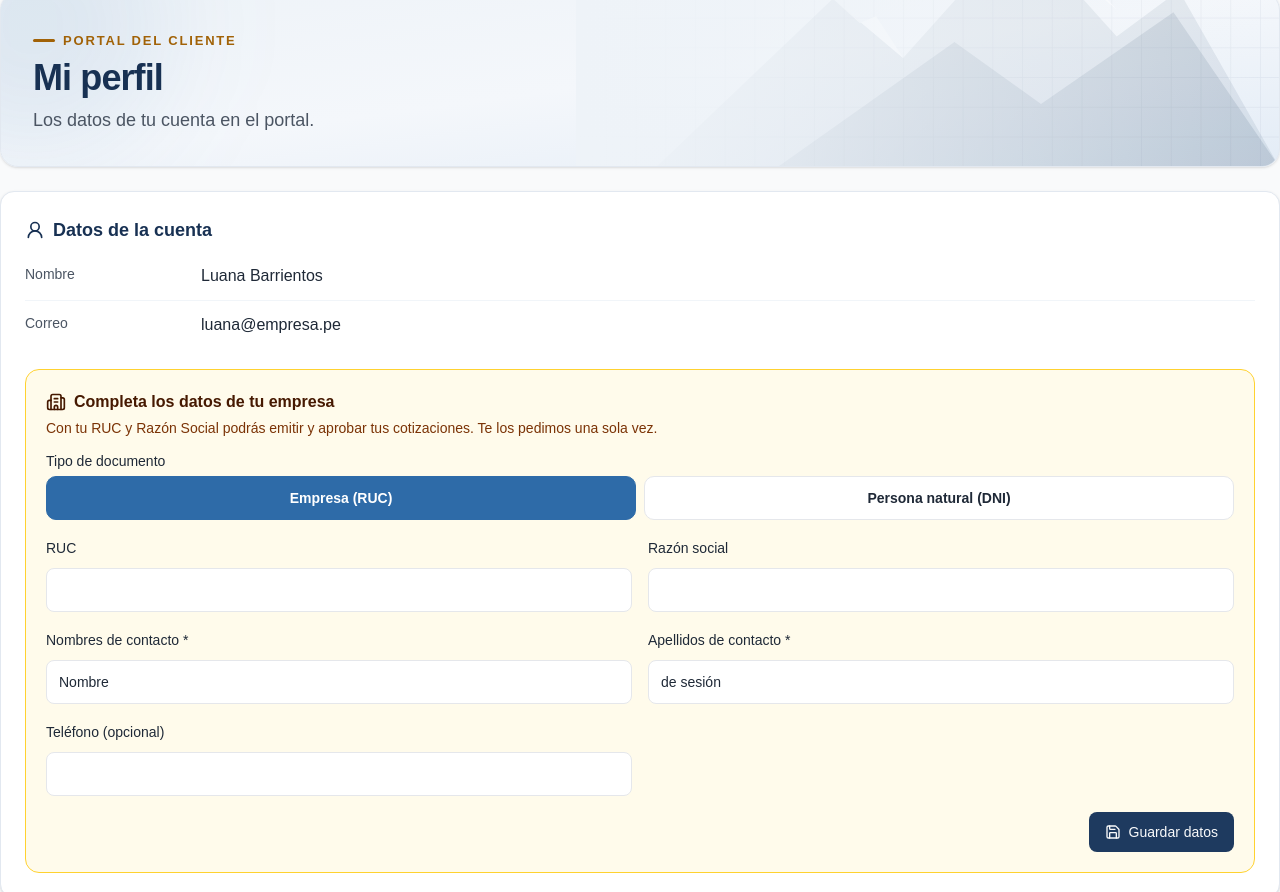
Test: PerfilClientePage (/portal/perfil) › cuenta sin datos de empresa › si falla el guardado, muestra el error y deja corregir
Expected: the element "Completa los datos de tu empresa" is shown, [25, 369, 1255, 873]
Type "20123456789" into the field labelled "RUC" at (339, 590), box [46, 568, 632, 612]
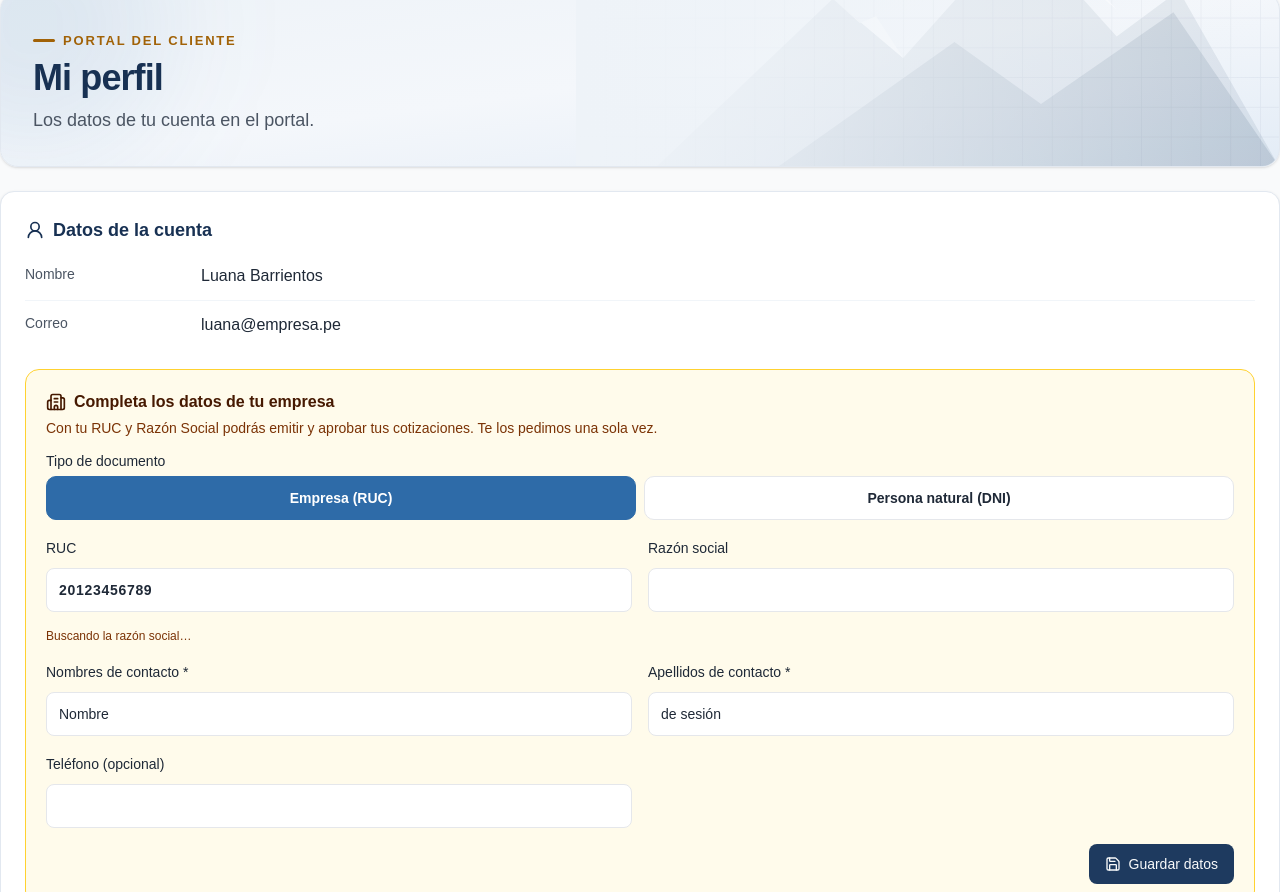
Type "Minera Sol S.A.C." into the field labelled "Razón social" at (941, 590), box [648, 568, 1234, 612]
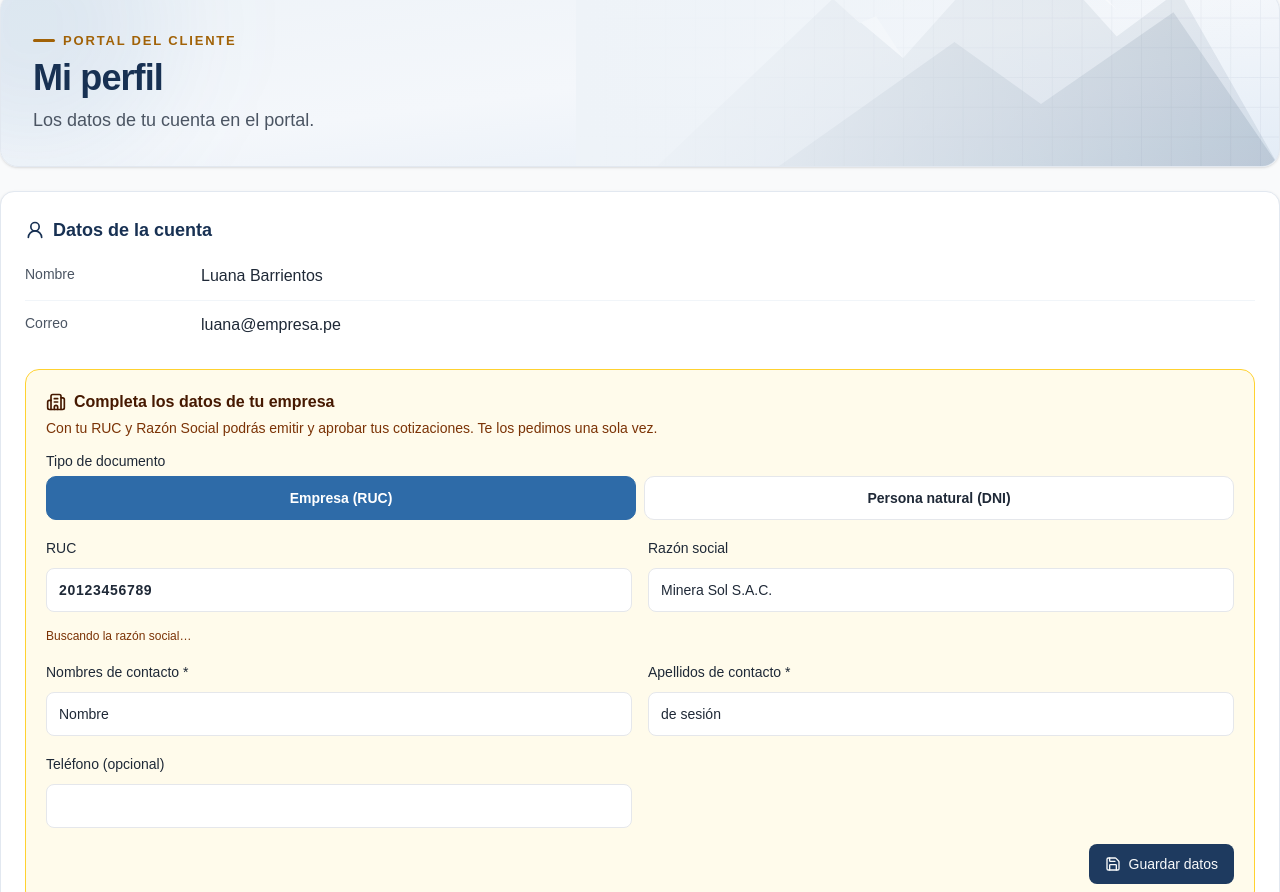
Replace the text in the field labelled "Nombres de contacto *" with "Gina" at (339, 714), box [46, 692, 632, 736]
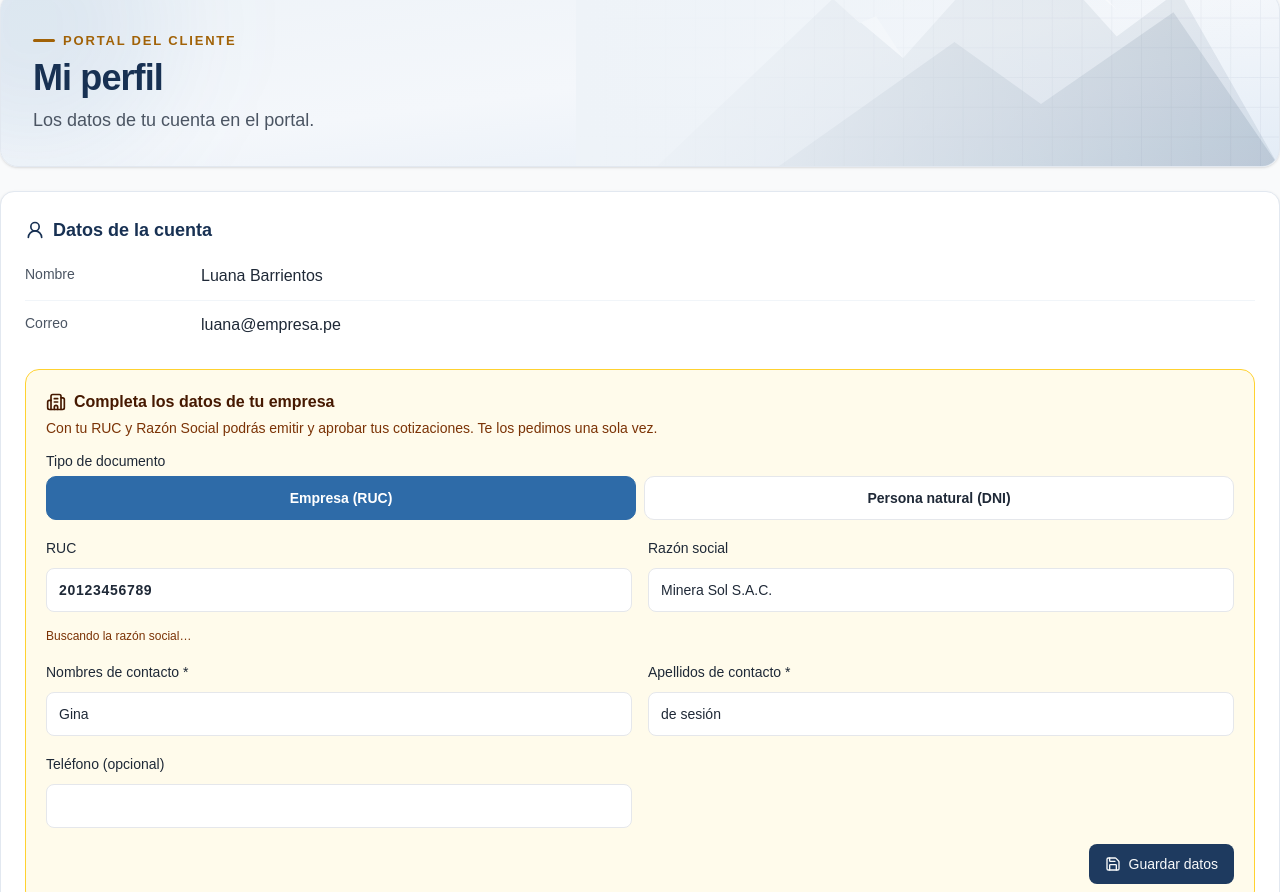
Replace the text in the field labelled "Apellidos de contacto *" with "Paz" at (941, 714), box [648, 692, 1234, 736]
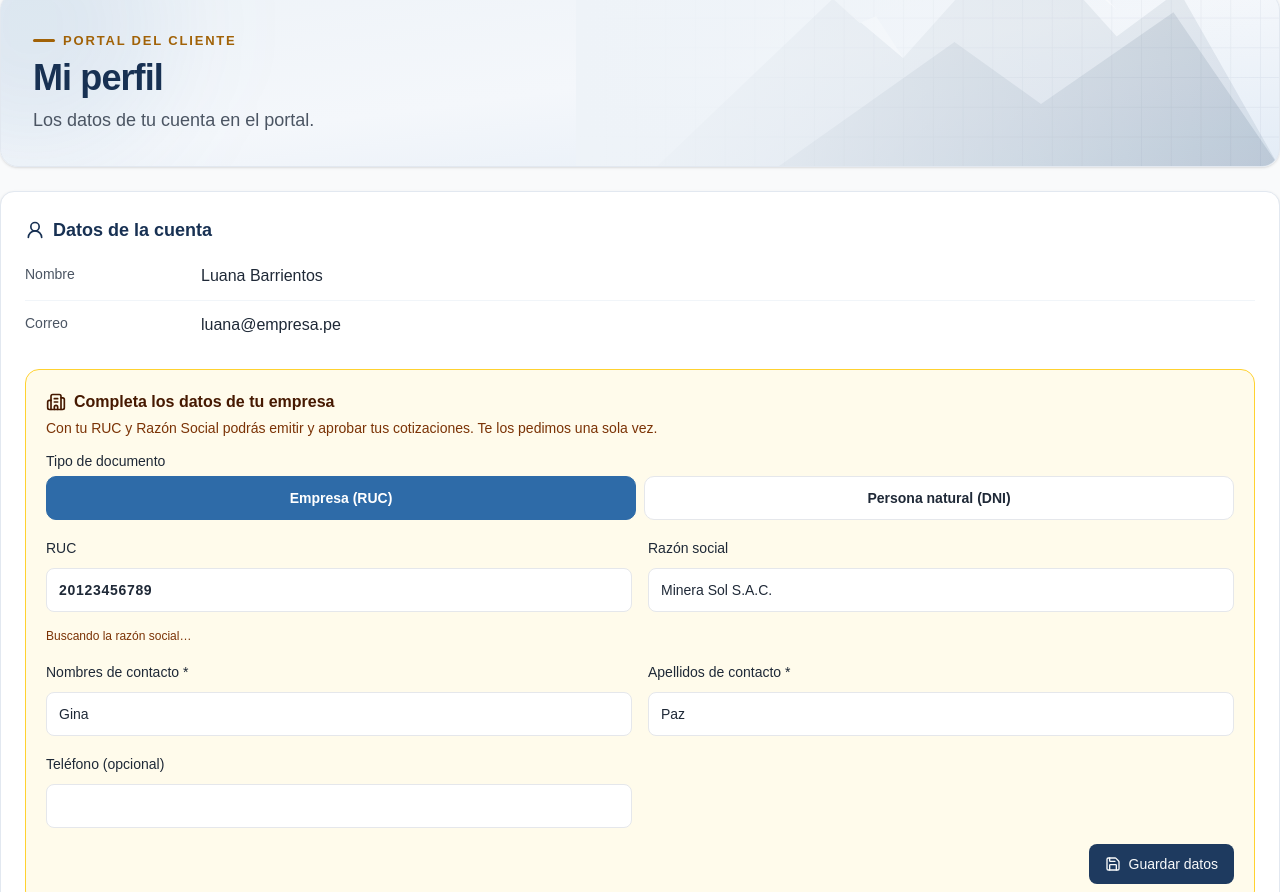
Click the button "Guardar datos" at (1161, 864), box [1088, 844, 1234, 884]
(page scrolled)
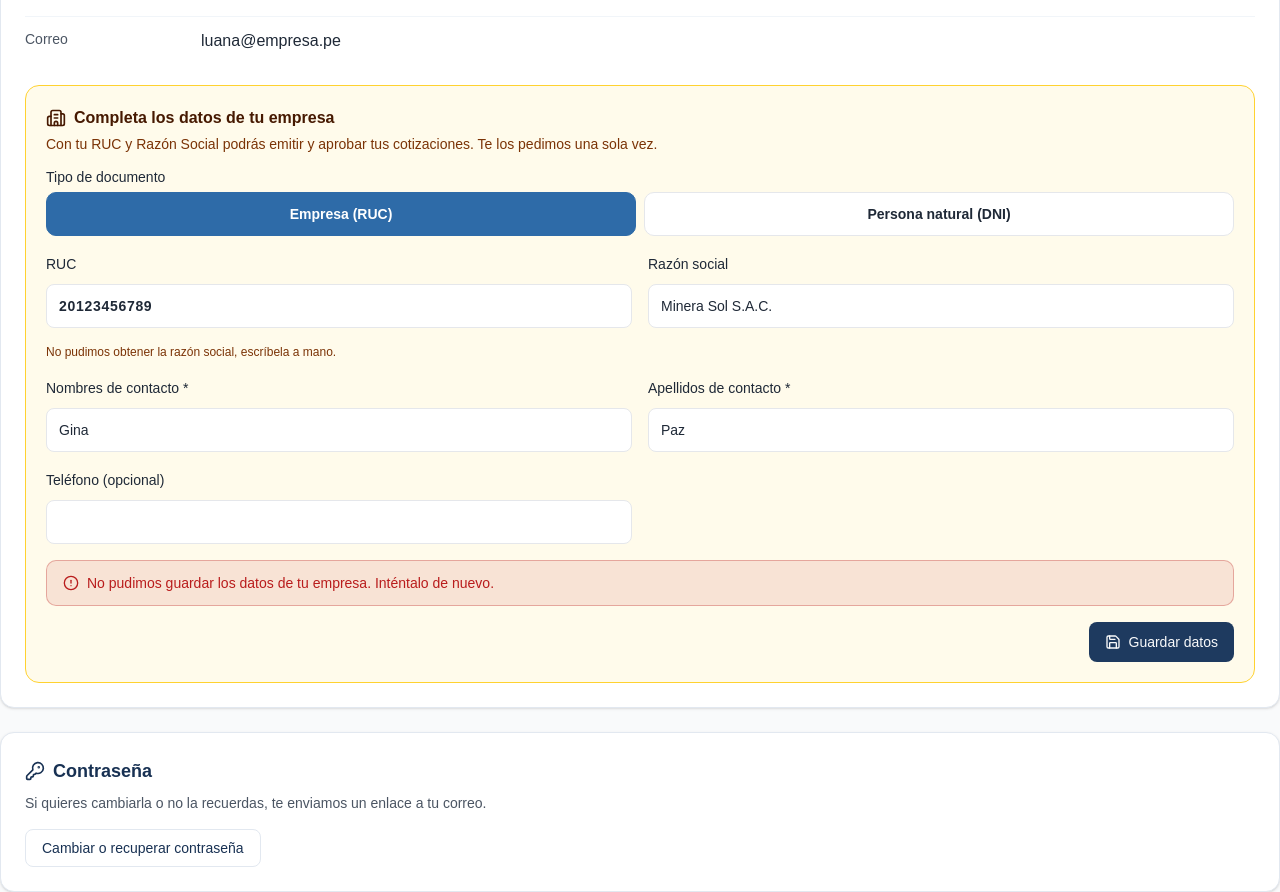
Expected: the button "Guardar datos" is shown, [1088, 622, 1234, 662]
Now the text "No pudimos guardar los datos de tu empresa" is shown, box [87, 575, 494, 591]
